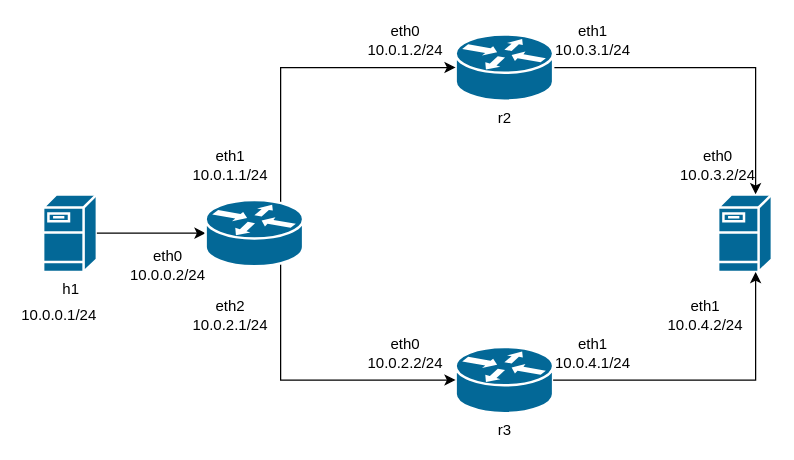
This 794x460 diagram has some shape labels left out. Here are the shapes that lost their labels. From the top down, the centre of each, then its label:
pixel 254 232: r1
pixel 744 232: h2
